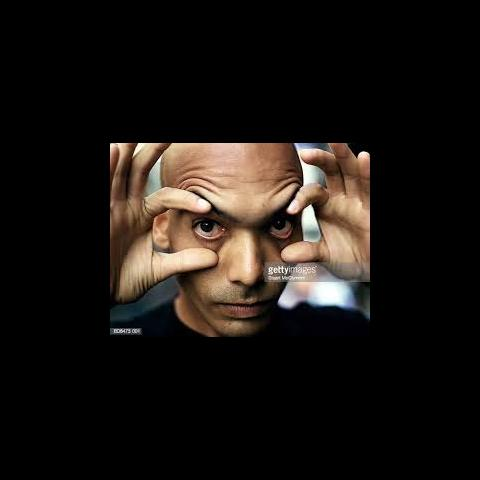opened: (188, 207, 296, 247)
